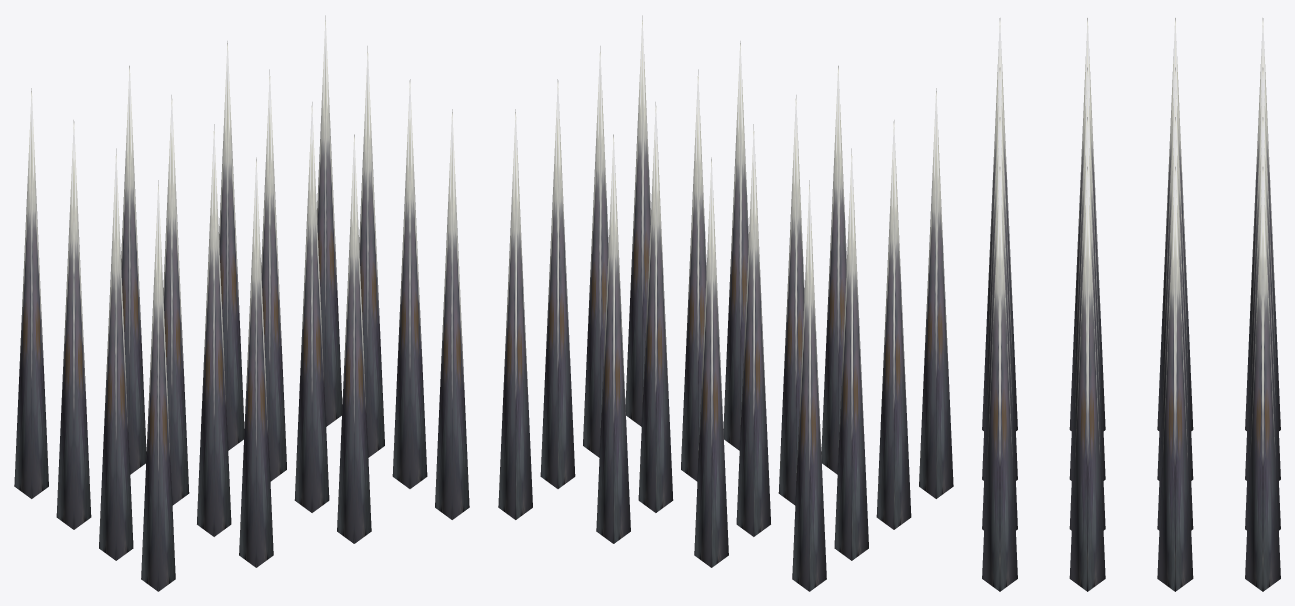
The model's file is dici.FBX.
3 views of the same model, side by side, from view 1: azimuth 30°, elevation 25°; view 2: azimuth 150°, elevation 25°; view 3: azimuth 270°, elevation 25° (orthographic). The views are drawn at different scales.
Parts seen in each view (by area): view 1: b-p-dici-all; view 2: b-p-dici-all; view 3: b-p-dici-all.
Boxes of the visible parts, x1=… form: b-p-dici-all: x1=14, y1=15, x2=469, y2=591; b-p-dici-all: x1=498, y1=15, x2=953, y2=591; b-p-dici-all: x1=982, y1=18, x2=1280, y2=591.
Bounding box in the file's own units: 1.14 × 1.38 × 0.8865.
